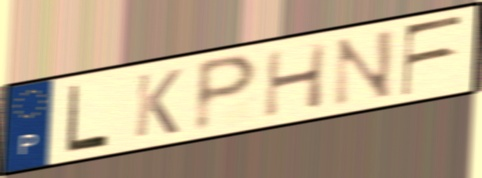F: (399, 12, 467, 99)
H: (261, 39, 330, 121)
K: (131, 66, 185, 141)
L: (63, 81, 111, 155)
N: (330, 26, 397, 110)
P: (190, 52, 262, 137)
